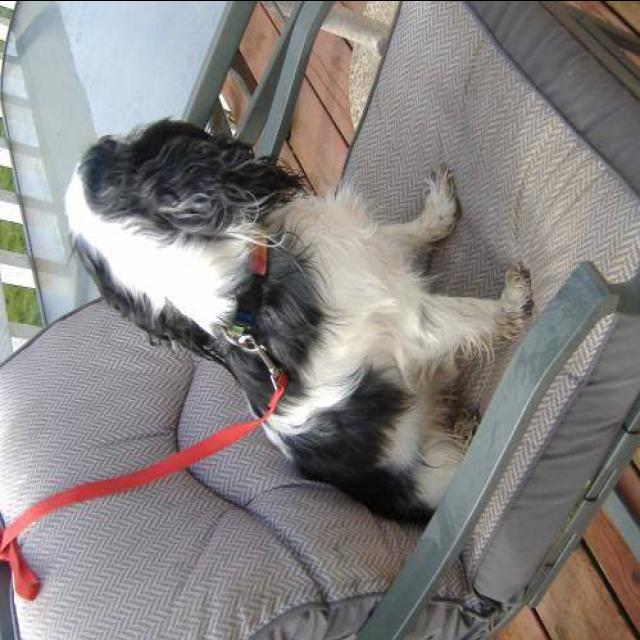dog: (49, 110, 519, 518)
